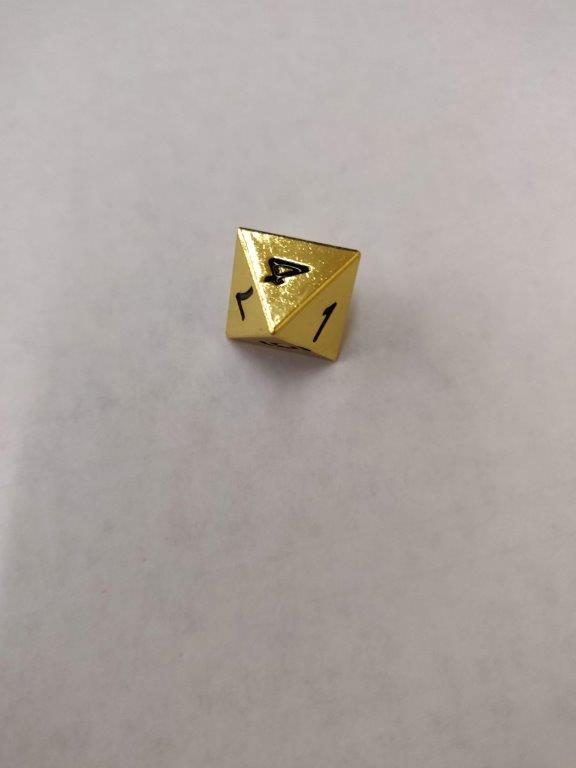d8-4: (219, 223, 362, 367)
